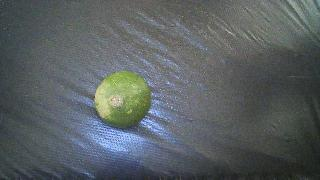DESECHO: (94, 71, 151, 127)
